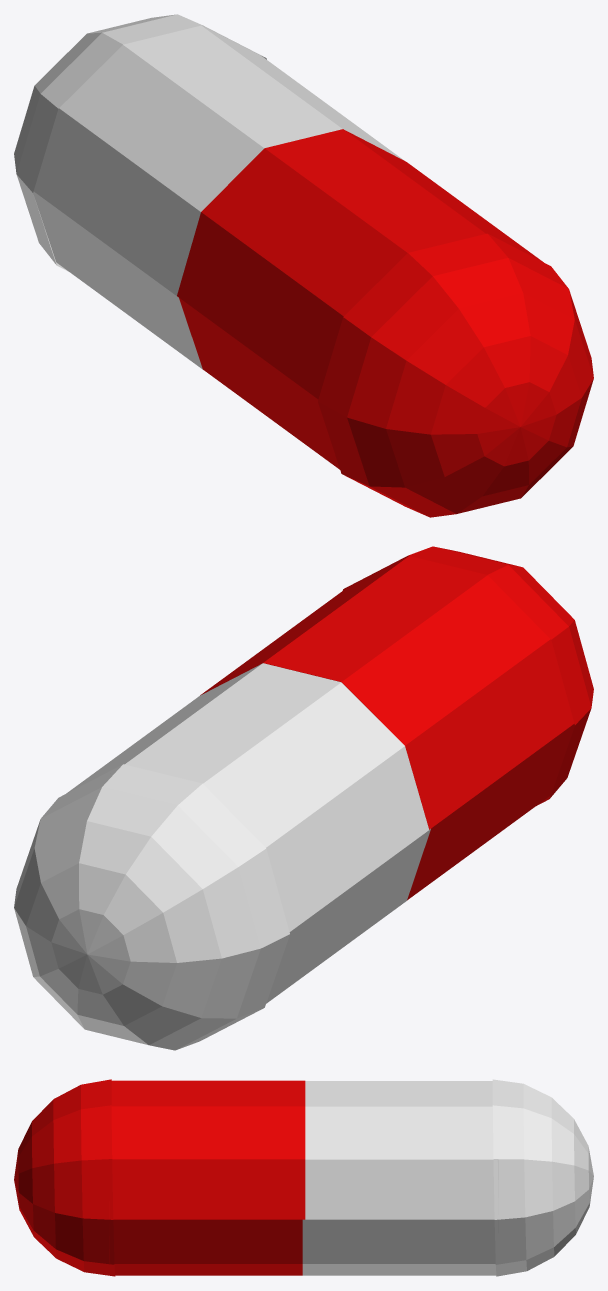
Rendered from ragePillObj.fbx.
3 views of the same model, one above another, from view 1: azimuth 30°, elevation 25°; view 2: azimuth 150°, elevation 25°; view 3: azimuth 270°, elevation 25° (orthographic). The views are drawn at different scales.
Visible parts, largest first — view 1: ragePillObj, pasted__pasted__pCylinder1; view 2: ragePillObj, pasted__pasted__pCylinder1; view 3: ragePillObj, pasted__pasted__pCylinder1.
Boxes of the visible parts, box(x1,y1,x2,y2) form: ragePillObj: box(14, 14, 593, 517); pasted__pasted__pCylinder1: box(33, 25, 342, 369); ragePillObj: box(14, 546, 593, 1050); pasted__pasted__pCylinder1: box(125, 665, 429, 1003); ragePillObj: box(14, 1079, 593, 1276); pasted__pasted__pCylinder1: box(302, 1102, 498, 1275).
Bounding box in the file's own units: 2.05 × 1.95 × 5.99.
